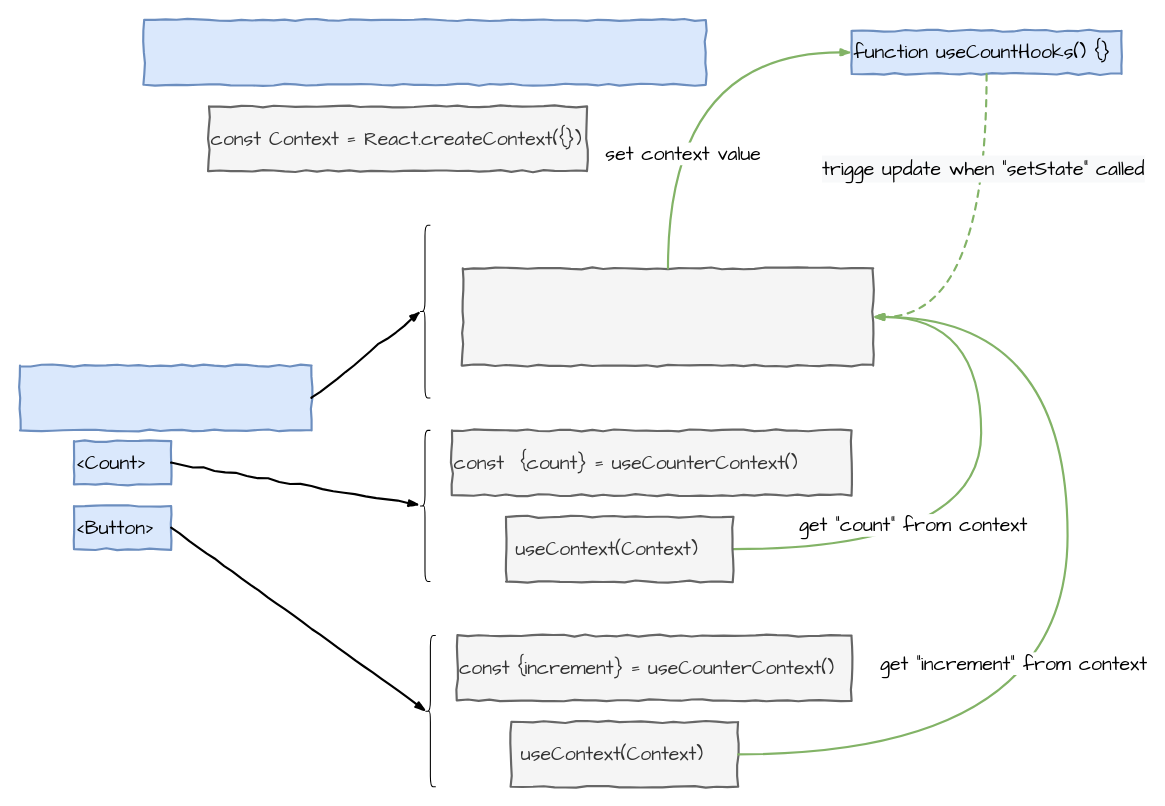
This 1165x806 diagram has some shape labels left out. The box of each missing label's shape, as (x1, y1, x2, y2) in pixels:
<Context.Provider value={useCountHooks()}> {children} </Context.Provider>: (461, 267, 874, 366)
<useCounterContext.Provider>: (18, 364, 312, 431)
const useConterContext = createContextHooks(useCounter): (143, 18, 706, 85)
